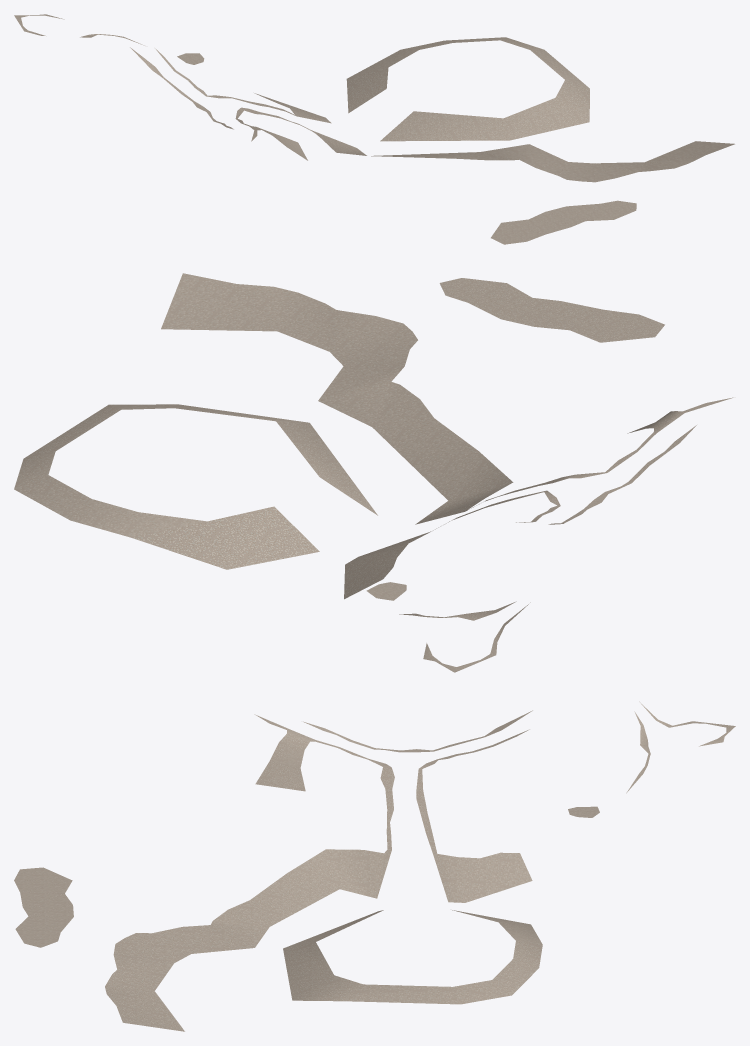
The model's file is kd_stage_135ebf_2_19.glb.
The picture shows the model from 3 angles, top to bottom: view 1: azimuth 30°, elevation 25°; view 2: azimuth 150°, elevation 25°; view 3: azimuth 270°, elevation 25°; orthographic projection. The views are drawn at different scales.
Visible parts, largest first — view 1: kd_stage_135ebf_2_19; view 2: kd_stage_135ebf_2_19; view 3: kd_stage_135ebf_2_19.
Boxes of the visible parts, bbox=[...] form: kd_stage_135ebf_2_19: bbox=[14, 14, 734, 244]; kd_stage_135ebf_2_19: bbox=[14, 273, 733, 672]; kd_stage_135ebf_2_19: bbox=[14, 701, 735, 1031].
Bounding box in the file's own units: 52.88 × 9.8 × 63.26.
Materials: 1 (1 with a texture image).
